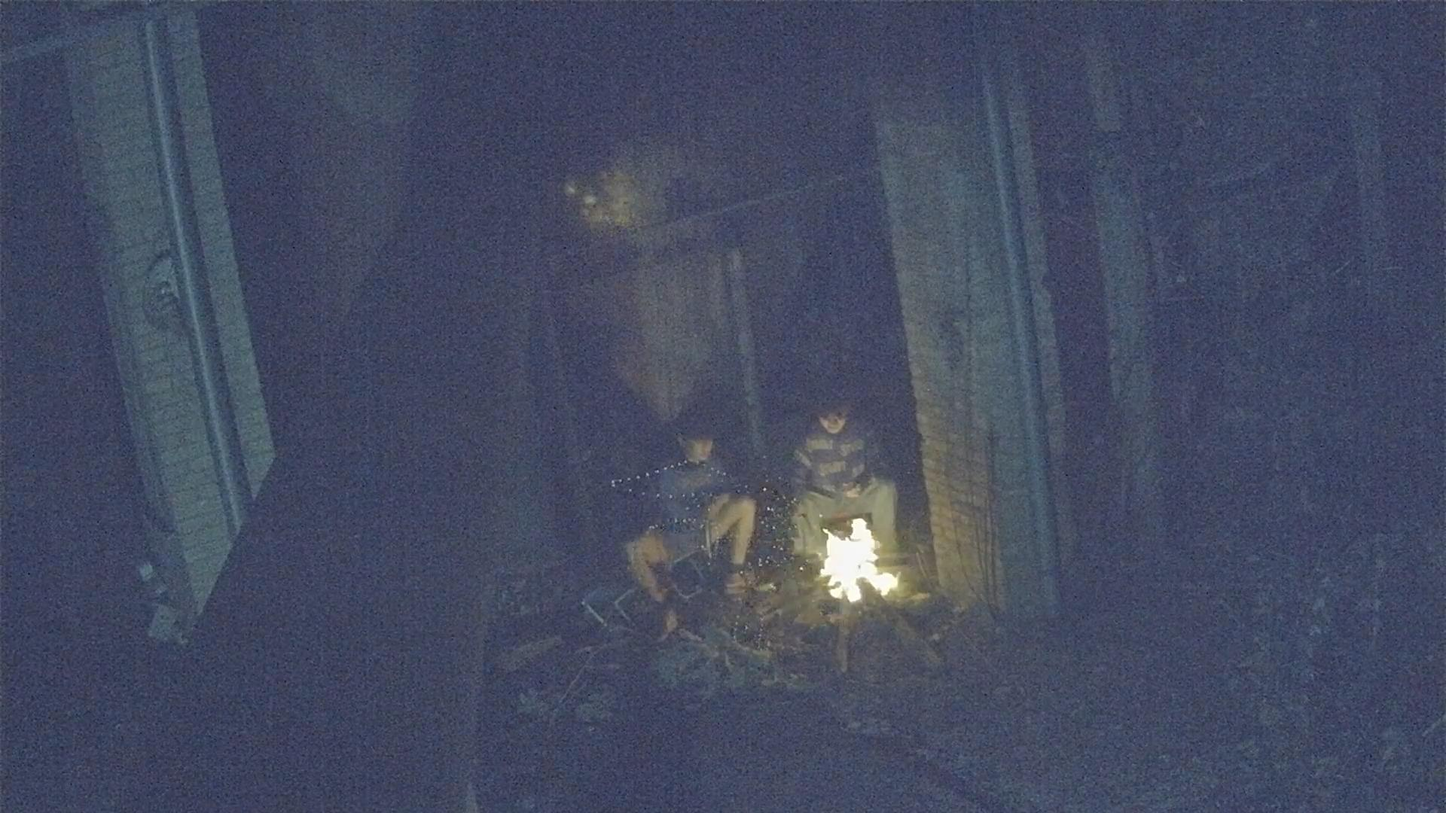fire: (820, 519, 896, 602)
